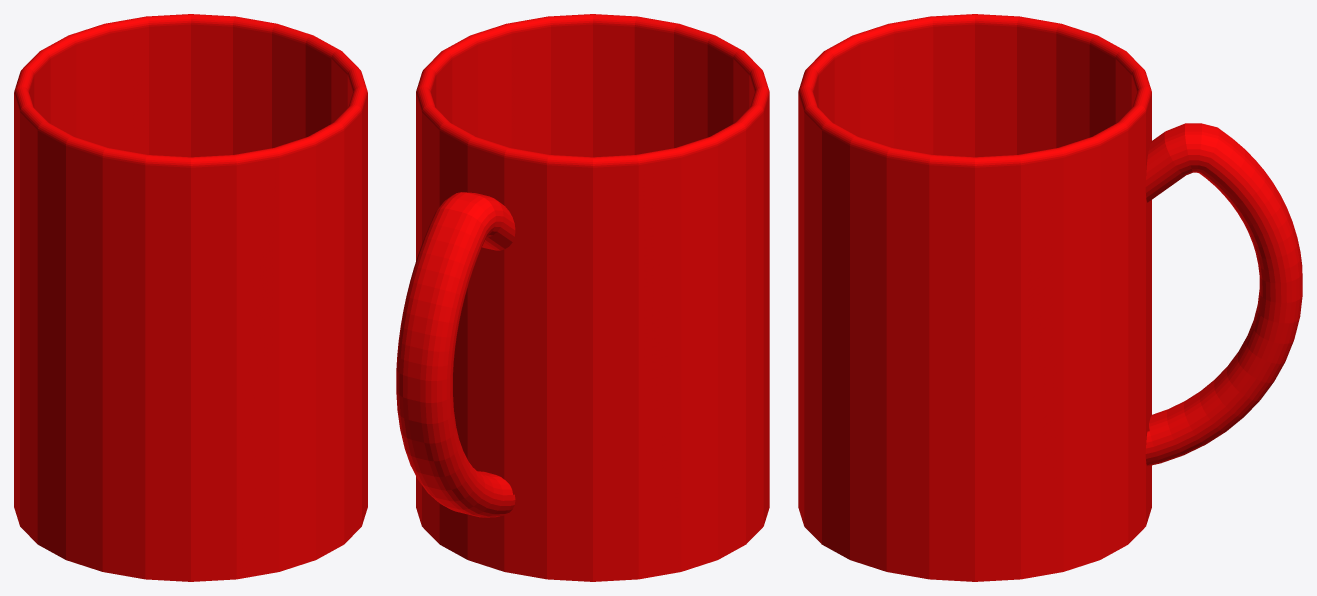
The picture shows the model from 3 angles, left to right: view 1: azimuth 30°, elevation 25°; view 2: azimuth 150°, elevation 25°; view 3: azimuth 270°, elevation 25°; orthographic projection.
Bounding box in the file's own units: 0.4586 × 0.6019 × 0.6538.
